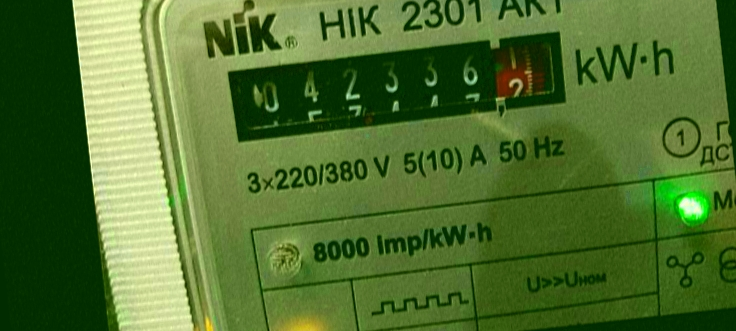0: (258, 78, 282, 115)
1: (504, 42, 520, 73)
2: (338, 65, 362, 103), (504, 76, 525, 99)
3: (416, 52, 440, 90), (378, 57, 401, 96)
4: (298, 66, 321, 105)
6: (455, 51, 481, 88)
screen: (217, 21, 578, 152)
